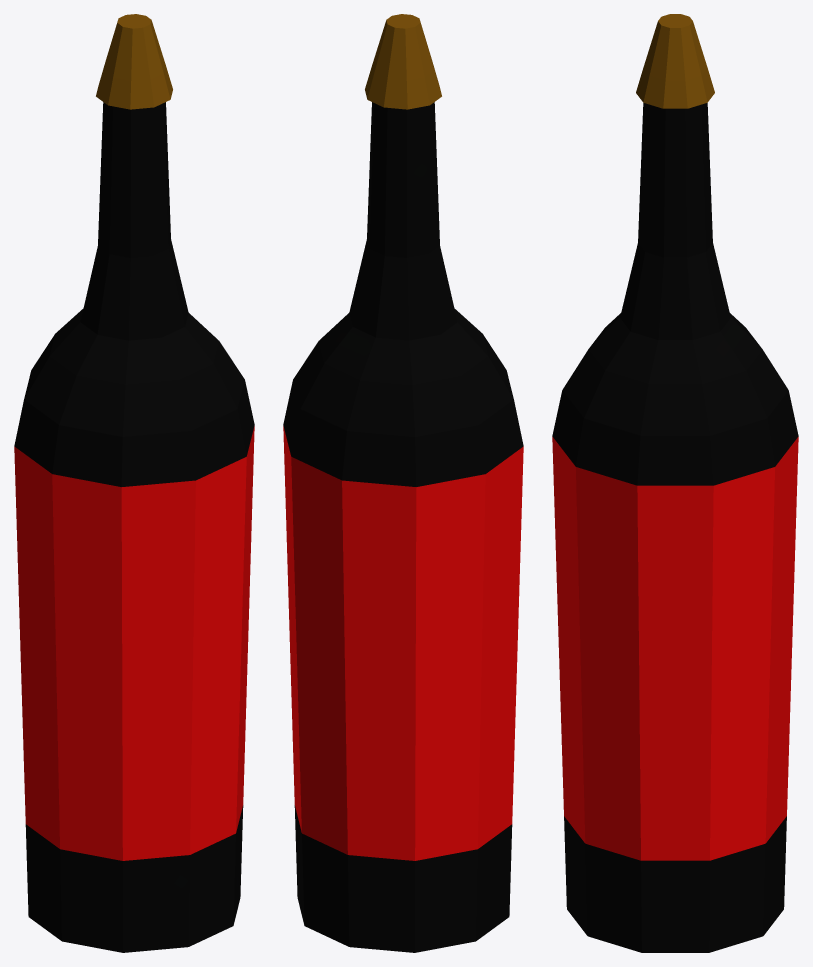
Rendered from Wine_02.fbx.
3 renders of one model, left to right at view 1: azimuth 30°, elevation 25°; view 2: azimuth 150°, elevation 25°; view 3: azimuth 270°, elevation 25°, orthographic.
Parts seen in each view (by area): view 1: Wine_02; view 2: Wine_02; view 3: Wine_02.
Boxes of the visible parts, left/top/right/bottom form: Wine_02: left=14, top=14, right=254, bottom=952; Wine_02: left=283, top=14, right=523, bottom=952; Wine_02: left=552, top=14, right=798, bottom=952.
Bounding box in the file's own units: 6.91 × 28.92 × 7.27.
